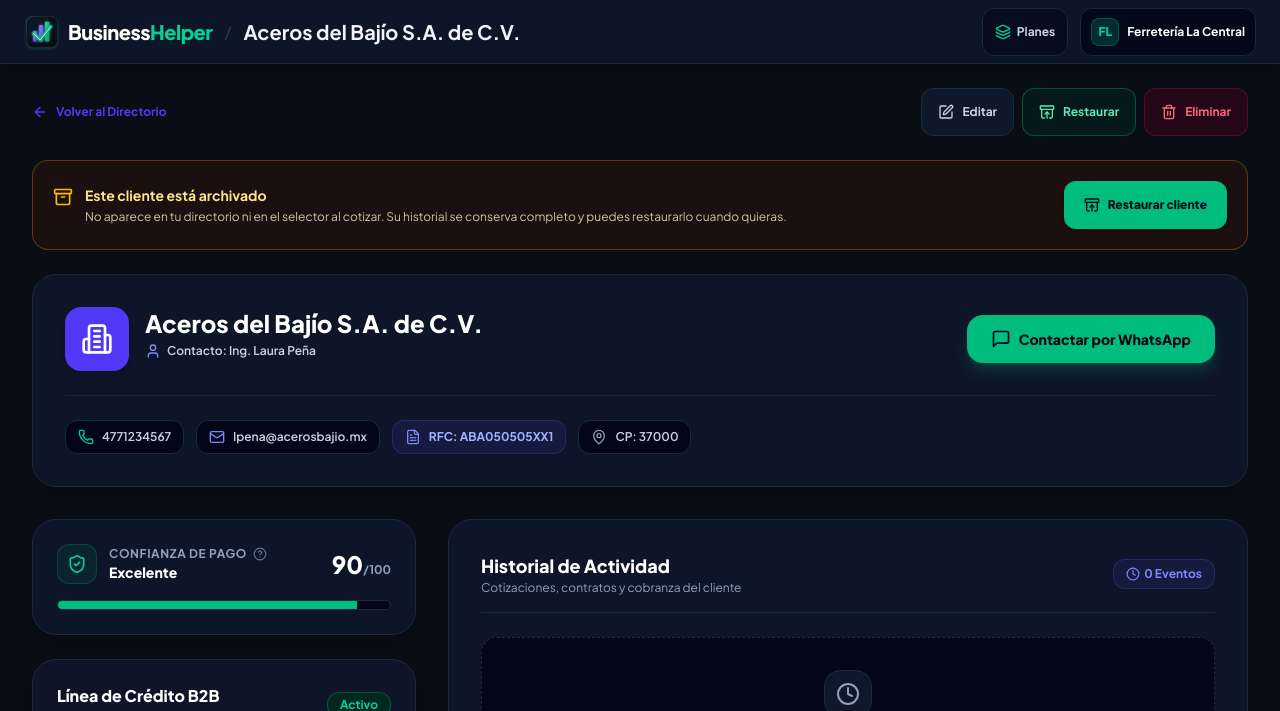
it: restoring from the profile (#360) › sends the write and clears the banner using the row the server returned
This screenshot has width=1280, height=711.
Click the button "Restaurar cliente": (1145, 205) [1064, 181, 1227, 229]
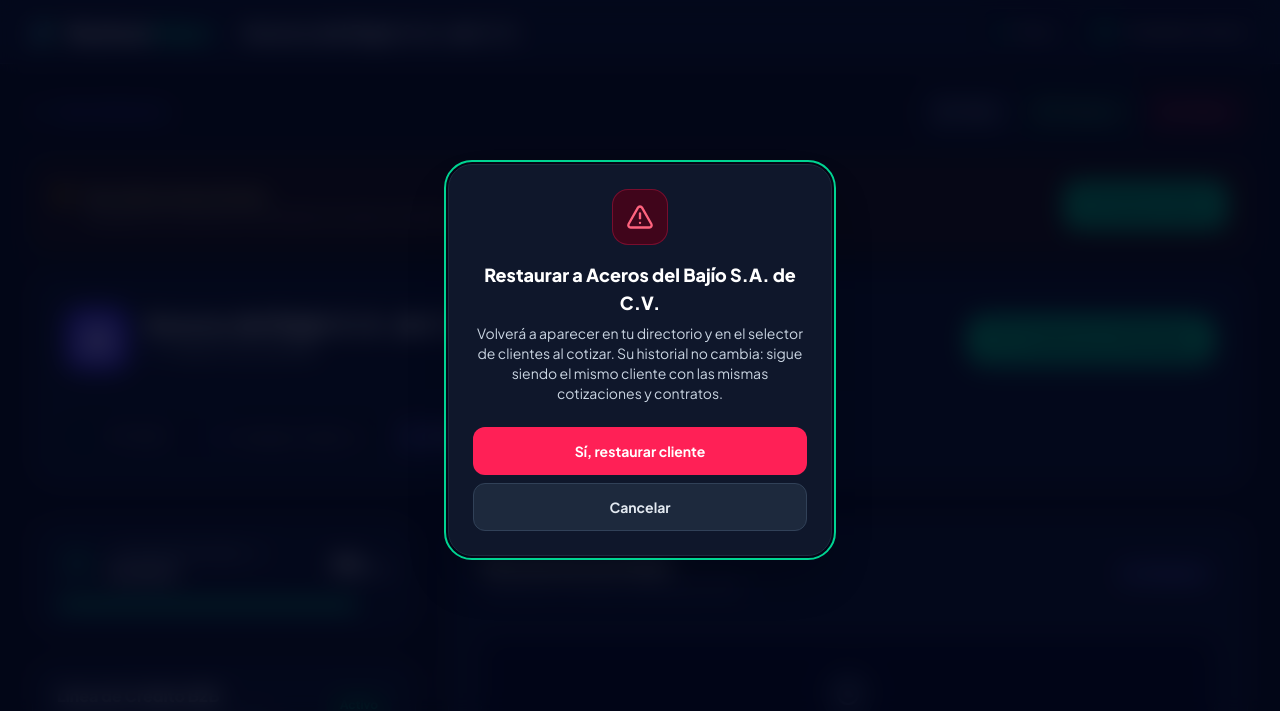
Click the button "Sí, restaurar cliente": (640, 451) [473, 427, 807, 475]
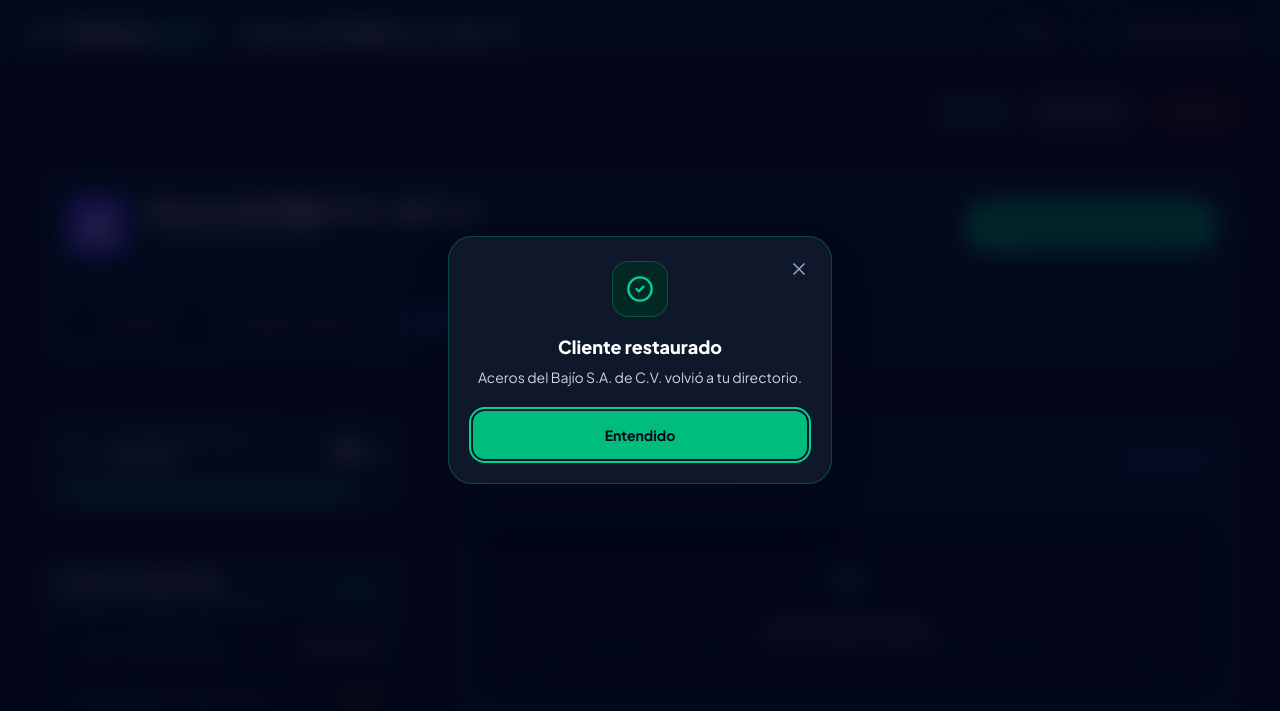
Now the heading "Este cliente está archivado" is gone
Now the heading "Cliente restaurado" is shown, box [558, 335, 722, 358]
